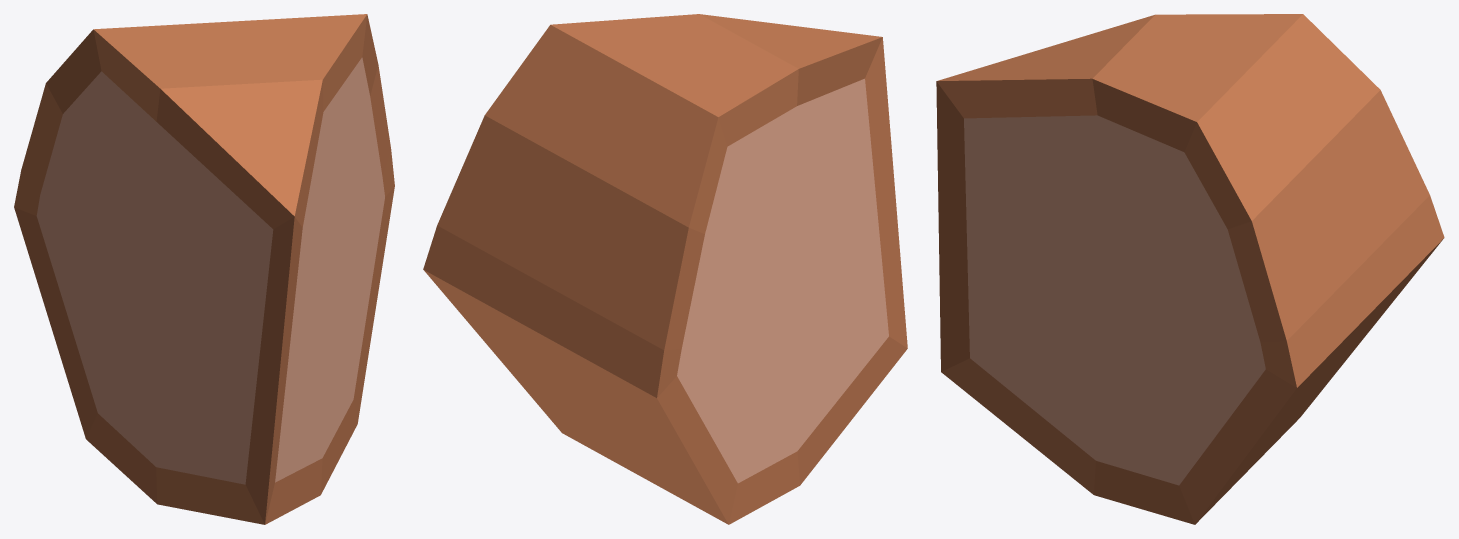
File: PumpkinPiece.fbx
3 renders of one model, left to right at view 1: azimuth 30°, elevation 25°; view 2: azimuth 150°, elevation 25°; view 3: azimuth 270°, elevation 25°, orthographic.
Parts seen in each view (by area): view 1: Pumpkin_shatter.010; view 2: Pumpkin_shatter.010; view 3: Pumpkin_shatter.010.
Boxes of the visible parts, x1,y1,x2,y2 form: Pumpkin_shatter.010: (14, 14, 394, 524); Pumpkin_shatter.010: (423, 14, 907, 524); Pumpkin_shatter.010: (936, 14, 1444, 524).
Size of the model in its own units: 93.18 by 121 by 133.
